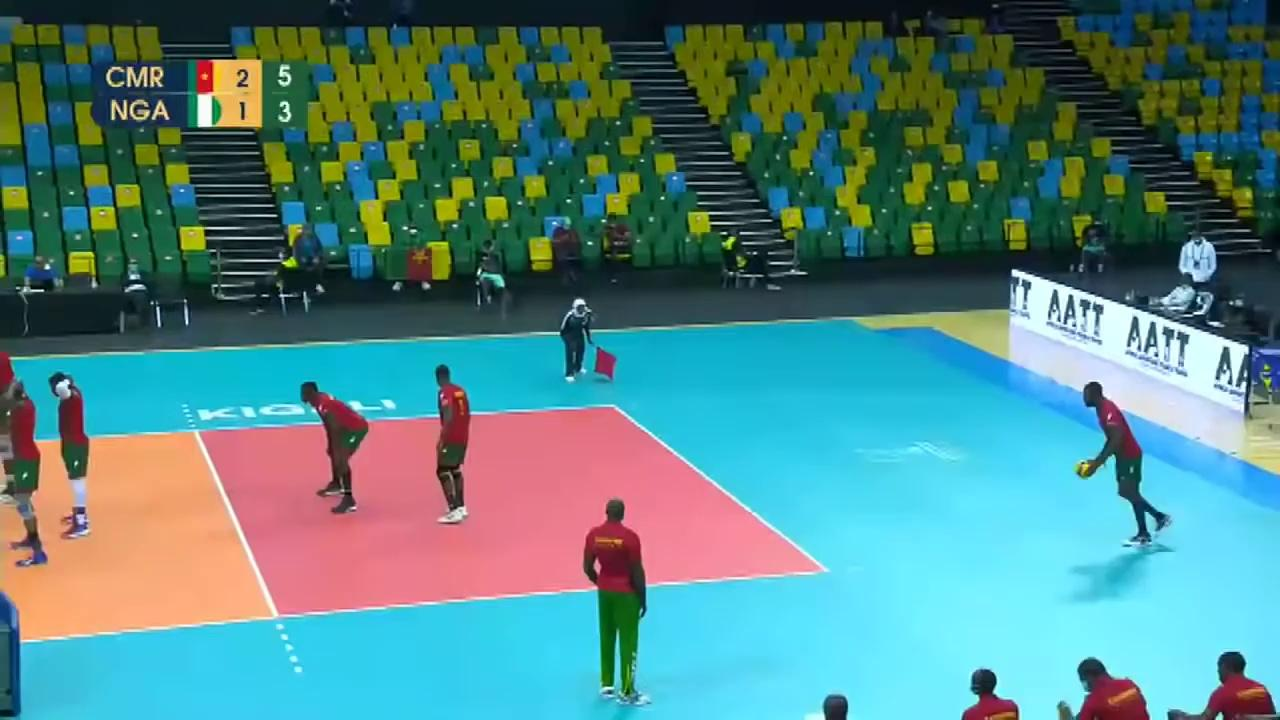player: (1076, 381, 1173, 553), (48, 372, 107, 545), (298, 384, 378, 511), (0, 376, 45, 559), (431, 367, 474, 520), (0, 341, 29, 507)
refree: (563, 295, 603, 385)
